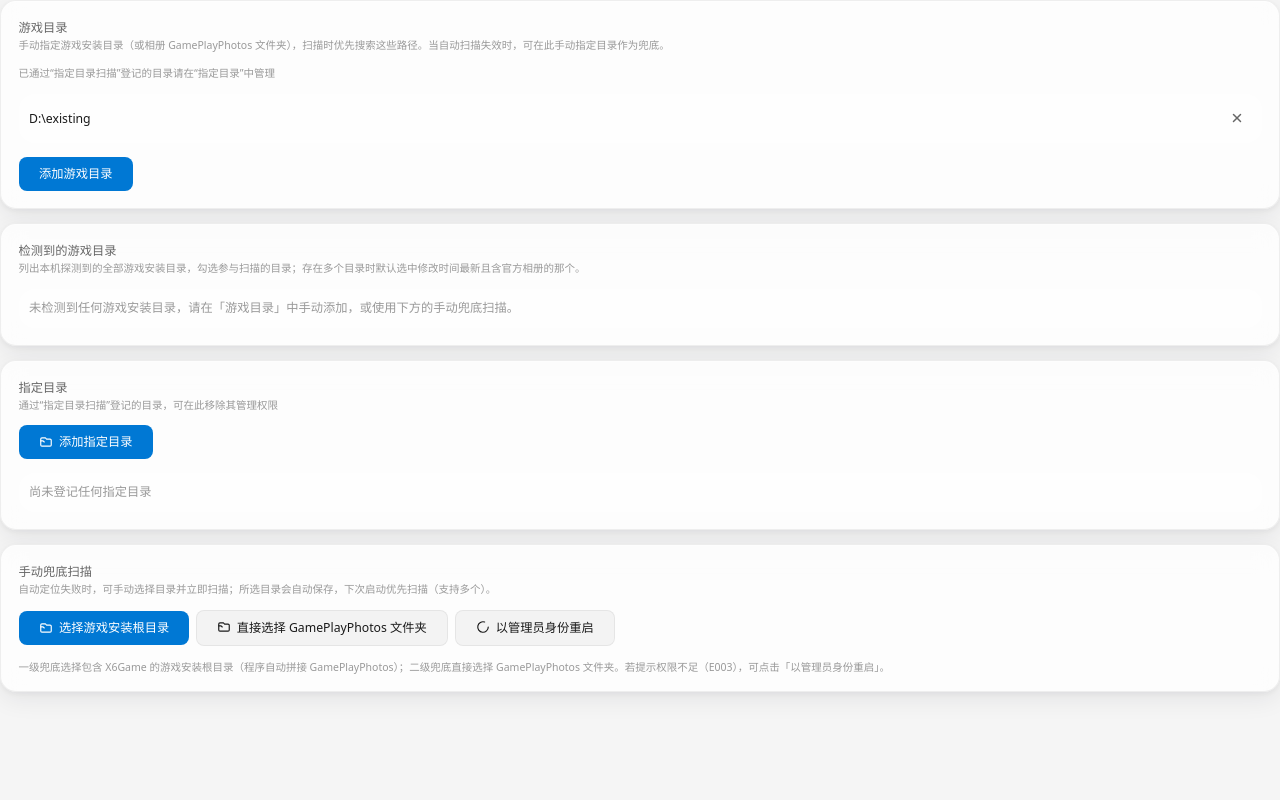
Test: ScanDirectoriesSection — 合并同屏后的读写一致性 › 兜底块新增目录后，「游戏目录」块无需切页即自动列出该条
The image size is (1280, 800).
expect the text "D:\\existing" is shown: met, box [29,110,91,126]
Click the button "选择游戏安装根目录" at (104, 627), box [18,610,189,644]
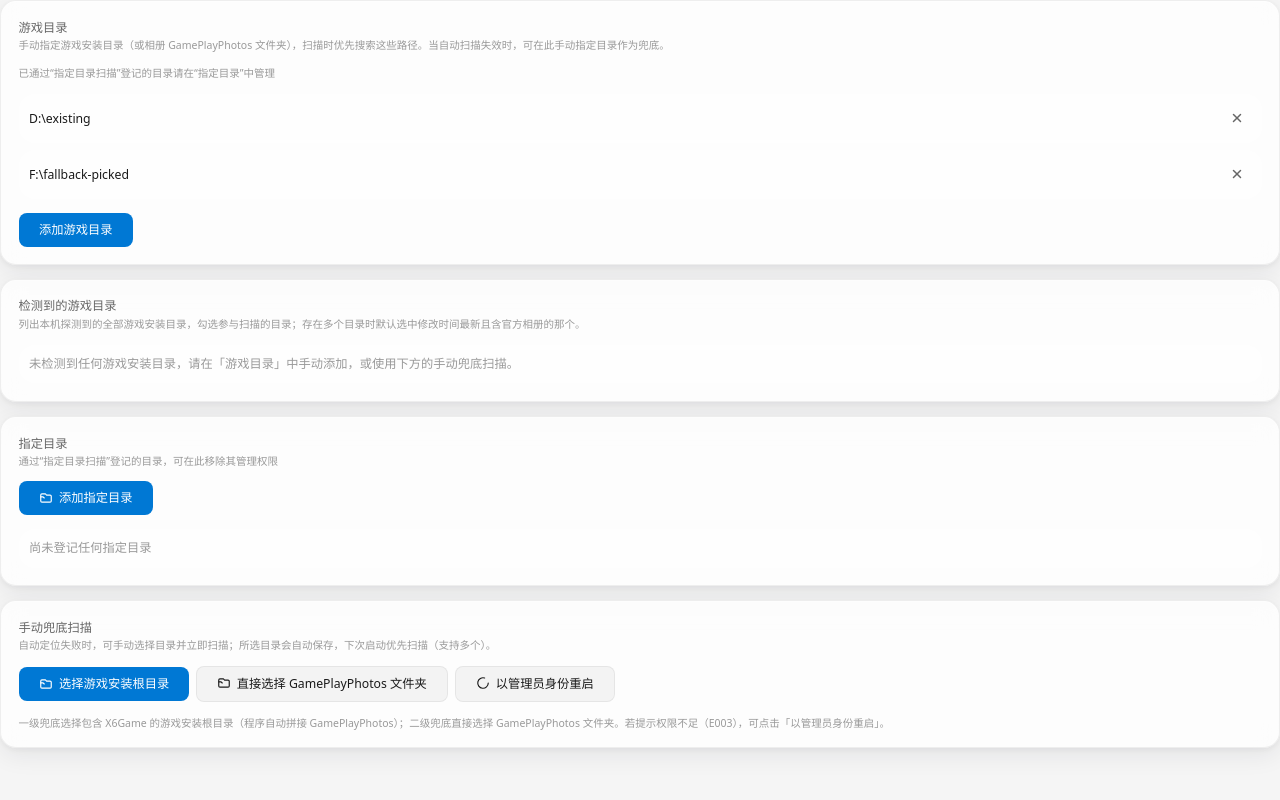
expect the text "F:\\fallback-picked" is shown: met, box [29,166,129,182]
